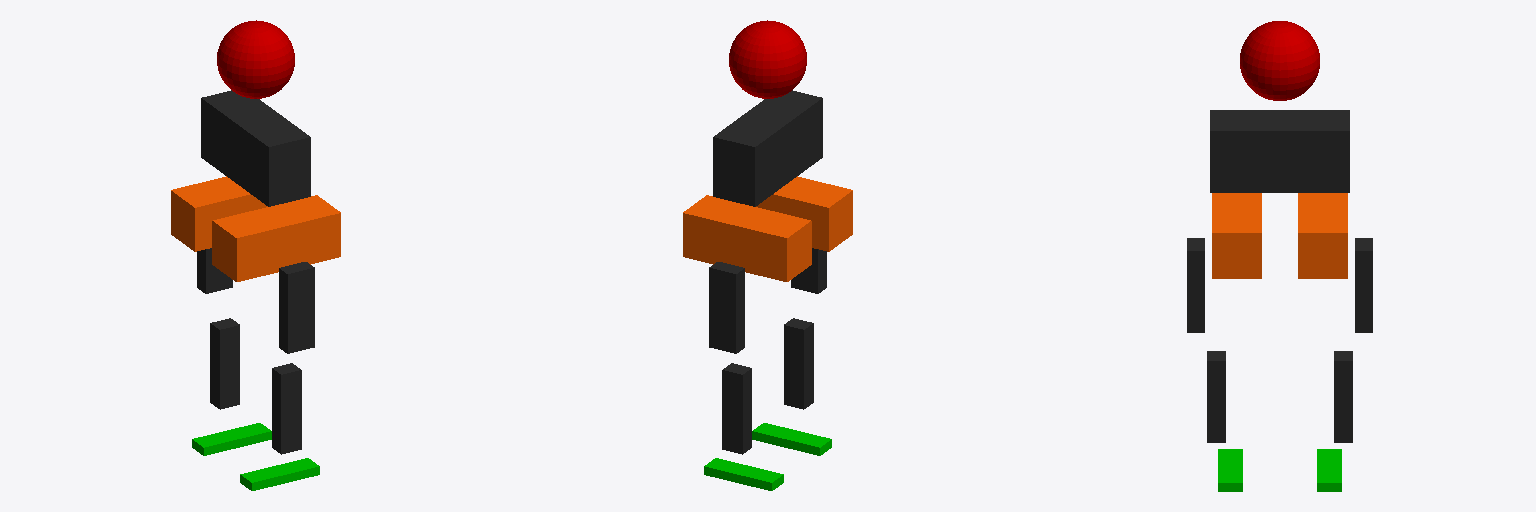
robot.urdf — clala:
<?xml version="1.0" ?>
<!-- =================================================================================== -->
<!-- |    This document was autogenerated by xacro from wwlambda_r2.xacro              | -->
<!-- |    EDITING THIS FILE BY HAND IS NOT RECOMMENDED                                 | -->
<!-- =================================================================================== -->
<robot name="clala" xmlns:xacro="http://ros.org/wiki/xacro">
  <material name="black">
    <color rgba="0.0 0.0 0.0 1.0"/>
  </material>
  <material name="blue">
    <color rgba="0.0 0.0 0.8 1.0"/>
  </material>
  <material name="green">
    <color rgba="0.0 0.8 0.0 1.0"/>
  </material>
  <material name="grey">
    <color rgba="0.2 0.2 0.2 1.0"/>
  </material>
  <material name="silver">
    <color rgba="0.9137254901960784 0.9137254901960784 0.8470588235294118 1.0"/>
  </material>
  <material name="orange">
    <color rgba="1.0 0.4235294117647059 0.0392156862745098 1.0"/>
  </material>
  <material name="brown">
    <color rgba="0.8705882352941177 0.8117647058823529 0.7647058823529411 1.0"/>
  </material>
  <material name="red">
    <color rgba="0.8 0.0 0.0 1.0"/>
  </material>
  <material name="white">
    <color rgba="1.0 1.0 1.0 1.0"/>
  </material>
  <link name="base">
    <visual>
      <origin rpy="0 0 0" xyz="0 0 0"/>
      <geometry>
        <box size="0.001 0.001 0.001"/>
      </geometry>
    </visual>
    <inertial>
      <origin rpy="0 0 0" xyz="0 0 0"/>
      <mass value="0.1"/>
      <inertia ixx=".00001" ixy="0." ixz=".015" iyy=".00001" iyz=".0" izz=".00001"/>
    </inertial>
  </link>
  <joint name="floating_base" type="fixed">
    <!-- <origin rpy="0 0 0" xyz="0 0 -0.042"/> -->
    <origin rpy="0 0 0" xyz="0 0 0.085"/>
    <parent link="trunk"/>
    <child link="base"/>
  </joint>
  <link name="trunk">
    <visual>
      <origin rpy="0 0 0" xyz="0 0 0.107"/>
      <geometry>
        <box size="0.062 0.172 0.084"/>
      </geometry>
      <material name="grey"/>
    </visual>
    <collision>
      <origin rpy="0 0 0" xyz="0 0 0.107"/>
      <geometry>
        <box size="0.062 0.172 0.084"/>
      </geometry>
    </collision>
    <inertial>
      <origin rpy="0 0 0" xyz="0.001131 0 0.086906"/>
      <mass value="0.672"/>
      <inertia ixx="2193585.402e-9" ixy="-31.775e-9" ixz="-12830.536e-9" iyy="412257.108e-9" iyz="-30.175e-9" izz="2159649.914e-9"/>
    </inertial>
  </link>
  <joint name="body_joint" type="fixed">
    <parent link="trunk"/>
    <child link="body"/>
    <origin rpy="0 0 0" xyz="0 0 0.230"/>
  </joint>
  <link name="body">
    <inertial>
      <mass value="1.3"/>
      <origin rpy="0 0 0" xyz="0 0 0"/>
      <inertia ixx="3035947e-9" ixy="-1669e-9" ixz="2793e-9" iyy="2992228e-9" iyz="17720e-9" izz="3906372e-9"/>
    </inertial>
    <visual>
      <origin rpy="0 0 0" xyz="0 0 0"/>
      <geometry>
        <sphere radius="0.050" />
        <!-- <box size="0.100 0.100 0.100"/> -->
      </geometry>
      <material name="red"/>
    </visual>
    <collision>
      <origin rpy="0 0 0" xyz="0 0 0"/>
      <geometry>
        <sphere radius="0.050" />
        <!-- <box size="0.120 0.120 0.120"/> -->
      </geometry>
    </collision>
  </link>
  <joint name="imu_joint" type="fixed">
    <parent link="trunk"/>
    <child link="imu_link"/>
    <origin rpy="0 0 0" xyz="0 0 0"/>
  </joint>
  <link name="imu_link">
    <inertial>
      <mass value="0.001"/>
      <origin rpy="0 0 0" xyz="0 0 0"/>
      <inertia ixx="0.0001" ixy="0" ixz="0" iyy="0.000001" iyz="0" izz="0.0001"/>
    </inertial>
    <visual>
      <origin rpy="0 0 0" xyz="0 0 0"/>
      <geometry>
        <box size="0.001 0.001 0.001"/>
      </geometry>
      <material name="red"/>
    </visual>
    <collision>
      <origin rpy="0 0 0" xyz="0 0 0"/>
      <geometry>
        <box size=".001 .001 .001"/>
      </geometry>
    </collision>
  </link>
  <joint name="L_hip_joint" type="revolute">
    <origin rpy="0 0 0" xyz="0.0 0.053 0"/>
    <parent link="trunk"/>
    <child link="L_hip"/>
    <axis xyz="0 0 1"/>
    <dynamics damping="0.1" friction="0.0"/>
    <limit effort="10.0" lower="-0.2" upper="0.2" velocity="20"/>
  </joint>
  <link name="L_hip">
    <visual>
      <origin rpy="0 0 0" xyz="0 0 0"/>
      <geometry>
        <box size="0.154 0.062 0.062"/>
      </geometry>
      <material name="orange"/>
    </visual>
    <collision>
      <origin rpy="0 0 0" xyz="0 0 0"/>
      <geometry>
        <box size="0.154 0.062 0.062"/>
      </geometry>
    </collision>
    <inertial>
      <origin rpy="0 0 0" xyz="0 0.000334 0.003935"/>
      <mass value="0.652898"/>
      <inertia ixx="534478.410e-9" ixy="192.291e-9" ixz="-1.325e-9" iyy="2262361.698e-9" iyz="5777.021e-9" izz="2094559.879e-9"/>
    </inertial>
  </link>
  <joint name="L_hip2_joint" type="revolute">
    <origin rpy="0 0 0" xyz="0 0 0"/>
    <parent link="L_hip"/>
    <child link="L_hip2"/>
    <axis xyz="1 0 0"/>
    <dynamics damping="0.1" friction="0.0"/>
    <limit effort="10.0" lower="-0.2" upper="0.2" velocity="20"/>
  </joint>
  <link name="L_hip2">
    <!-- <visual>
      <origin rpy="0 0 0" xyz="0 0 0"/>
      <geometry>
        <mesh filename="../meshes/ww_lambda_right_hip_joint_r2.stl" scale="1 -1 1 "/>
      </geometry>
      <material name="brown"/>
    </visual> -->
    <inertial>
      <origin rpy="0 0 0" xyz="0.0 0.0111622 -0.000255"/>
      <mass value="0.404998"/>
      <inertia ixx="289373.105e-9" ixy="43.945e-9" ixz="-31.242e-9" iyy="243507.837e-9" iyz="-1291.490e-9" izz="298143.715e-9"/>
    </inertial>
  </link>
  <joint name="L_thigh_joint" type="revolute">
    <origin rpy="0 0.0 0" xyz="0 0.040 0"/>
    <parent link="L_hip2"/>
    <child link="L_thigh"/>
    <axis xyz="0 1 0"/>
    <joint_properties damping="0.1" friction="0.0"/>
    <limit effort="10.0" lower="-1.57" upper="0.3" velocity="20"/>
  </joint>
  <link name="L_thigh">
    <visual>
      <origin rpy="0 0 0" xyz="0 0.011 -0.0762"/>
      <geometry>
        <box size="0.040 0.022 0.112"/>
      </geometry>
      <material name="grey"/>
    </visual>
    <collision>
      <origin rpy="0 0 0" xyz="0 0.011 -0.0762"/>
      <geometry>
        <box size="0.040 0.022 0.112"/>
      </geometry>
    </collision>
    <inertial>
      <origin rpy="0 0 0" xyz="0.00044 -0.016322 -0.134420"/>
      <mass value="0.366608"/>
      <inertia ixx="786472.731e-9" ixy="57.238e-9" ixz="333.551e-9" iyy="678521.016e-9" iyz="-166135.332e-9" izz="208660.299e-9"/>
    </inertial>
  </link>
  <joint name="L_calf_joint" type="revolute">
    <!-- <origin rpy="0 ${calf_angle} 0" xyz="0 -0.0038 -0.1524"/> -->
    <origin rpy="0 0.0 0" xyz="0 -0.0238 -0.1524"/>
    <parent link="L_thigh"/>
    <child link="L_calf"/>
    <axis xyz="0 1 0"/>
    <joint_properties damping="0.1" friction="0.0"/>
    <limit effort="10.0" lower="0.0" upper="2.5" velocity="20"/>
  </joint>
  <link name="L_calf">
    <visual>
      <origin rpy="0 0 0" xyz="0 0.009 -0.0762"/>
      <geometry>
        <box size="0.030 0.024 0.112"/>
      </geometry>
      <material name="grey"/>
    </visual>
    <collision>
      <origin rpy="0 0 0" xyz="0 0.009 -0.0762"/>
      <geometry>
        <box size="0.030 0.024 0.112"/>
      </geometry>
    </collision>
    <inertial>
      <origin rpy="0 0 0" xyz="0.0 -0.007683 -0.078768"/>
      <mass value="0.056674"/>
      <inertia ixx="165297.155e-9" ixy="-0.046e-9" ixz="-0.870e-9" iyy="162576.784e-9" iyz="222.311e-9" izz="8384.868e-9"/>
    </inertial>
  </link>
  <joint name="L_toe_joint" type="revolute">
    <origin rpy="0 0.0 0" xyz="0 -0.0079 -0.1524"/>
    <parent link="L_calf"/>
    <child link="L_toe"/>
    <axis xyz="0 1 0"/>
    <joint_properties damping="0.1" friction="0.0"/>
    <limit effort="4.0" lower="-1.57" upper="1.57" velocity="20"/>
  </joint>
  <link name="L_toe">
    <visual>
      <origin rpy="0 0 0" xyz="0 0 -0.023"/>
      <geometry>
        <box size="0.100 0.030 0.012"/>
      </geometry>
      <material name="green"/>
    </visual>
    <collision>
      <origin rpy="0 0 0" xyz="0 0 -0.023"/>
      <geometry>
        <box size="0.100 0.030 0.012"/>
      </geometry>
    </collision>
    <inertial>
      <origin rpy="0 0 0" xyz="0 0.001619 -0.016022"/>
      <mass value="0.049085"/>
      <!-- <inertia ixx="7532.090e-9" 
                     ixy="-0.005e-9" iyy="28428.656e-9" 
                     ixz="0.037e-9" iyz="-1279.852e-9" izz="25997.217e-9"/> -->
      <!-- バタつくのでHECTORの足データを持ってきた -->
      <!-- <mass value="${toe_mass}"/> -->
      <inertia ixx="5.7298e-05" ixy="0.0" ixz="0.0" iyy="0.000290752" iyz="0.0" izz="0.000249491"/>
    </inertial>
  </link>
  <joint name="R_hip_joint" type="revolute">
    <origin rpy="0 0 0" xyz="0.0 -0.053 0"/>
    <parent link="trunk"/>
    <child link="R_hip"/>
    <axis xyz="0 0 1"/>
    <dynamics damping="0.1" friction="0.0"/>
    <limit effort="10.0" lower="-0.2" upper="0.2" velocity="20"/>
  </joint>
  <link name="R_hip">
    <visual>
      <origin rpy="0 0 0" xyz="0 0 0"/>
      <geometry>
        <box size="0.154 0.062 0.062"/>
      </geometry>
      <material name="orange"/>
    </visual>
    <collision>
      <origin rpy="0 0 0" xyz="0 0 0"/>
      <geometry>
        <box size="0.154 0.062 0.062"/>
      </geometry>
    </collision>
    <inertial>
      <origin rpy="0 0 0" xyz="0 0.000334 0.003935"/>
      <mass value="0.652898"/>
      <inertia ixx="534478.410e-9" ixy="192.291e-9" ixz="-1.325e-9" iyy="2262361.698e-9" iyz="5777.021e-9" izz="2094559.879e-9"/>
    </inertial>
  </link>
  <joint name="R_hip2_joint" type="revolute">
    <origin rpy="0 0 0" xyz="0 0 0"/>
    <parent link="R_hip"/>
    <child link="R_hip2"/>
    <axis xyz="1 0 0"/>
    <dynamics damping="0.1" friction="0.0"/>
    <limit effort="10.0" lower="-0.2" upper="0.2" velocity="20"/>
  </joint>
  <link name="R_hip2">
    <!-- <visual>
      <origin rpy="0 0 0" xyz="0 0 0"/>
      <geometry>
        <mesh filename="../meshes/ww_lambda_right_hip_joint_r2.stl" scale="1 1 1"/>
      </geometry>
      <material name="brown"/>
    </visual> -->
    <inertial>
      <origin rpy="0 0 0" xyz="0.0 -0.0111622 -0.000255"/>
      <mass value="0.404998"/>
      <inertia ixx="289373.105e-9" ixy="-43.945e-9" ixz="-31.242e-9" iyy="243507.837e-9" iyz="1291.490e-9" izz="298143.715e-9"/>
    </inertial>
  </link>
  <joint name="R_thigh_joint" type="revolute">
    <origin rpy="0 0.0 0" xyz="0 -0.040 0"/>
    <parent link="R_hip2"/>
    <child link="R_thigh"/>
    <axis xyz="0 1 0"/>
    <joint_properties damping="0.1" friction="0.0"/>
    <limit effort="10.0" lower="-1.57" upper="0.3" velocity="20"/>
  </joint>
  <link name="R_thigh">
    <visual>
      <origin rpy="0 0 0" xyz="0 -0.011 -0.0762"/>
      <geometry>
        <box size="0.040 0.022 0.112"/>
      </geometry>
      <material name="grey"/>
    </visual>
    <collision>
      <origin rpy="0 0 0" xyz="0 -0.011 -0.0762"/>
      <geometry>
        <box size="0.040 0.022 0.112"/>
      </geometry>
    </collision>
    <inertial>
      <origin rpy="0 0 0" xyz="0.00044 0.016322 -0.134420"/>
      <mass value="0.366608"/>
      <inertia ixx="786472.731e-9" ixy="-57.238e-9" ixz="333.551e-9" iyy="678521.016e-9" iyz="166135.332e-9" izz="208660.299e-9"/>
    </inertial>
  </link>
  <joint name="R_calf_joint" type="revolute">
    <!-- <origin rpy="0 ${calf_angle} 0" xyz="0 0.0038 -0.1524"/> -->
    <origin rpy="0 0.0 0" xyz="0 0.0238 -0.1524"/>
    <parent link="R_thigh"/>
    <child link="R_calf"/>
    <axis xyz="0 1 0"/>
    <joint_properties damping="0.1" friction="0.0"/>
    <limit effort="10.0" lower="0.0" upper="2.5" velocity="20"/>
  </joint>
  <link name="R_calf">
    <visual>
      <origin rpy="0 0 0" xyz="0 -0.009 -0.0762"/>
      <geometry>
        <box size="0.030 0.024 0.112"/>
      </geometry>
      <material name="grey"/>
    </visual>
    <collision>
      <origin rpy="0 0 0" xyz="0 -0.009 -0.0762"/>
      <geometry>
        <box size="0.030 0.024 0.112"/>
      </geometry>
    </collision>
    <inertial>
      <origin rpy="0 0 0" xyz="0.0 0.007683 -0.078768"/>
      <mass value="0.056674"/>
      <inertia ixx="165297.155e-9" ixy="0.046e-9" ixz="-0.870e-9" iyy="162576.784e-9" iyz="-222.311e-9" izz="8384.868e-9"/>
    </inertial>
  </link>
  <joint name="R_toe_joint" type="revolute">
    <origin rpy="0 0.0 0" xyz="0 0.0079 -0.1524"/>
    <parent link="R_calf"/>
    <child link="R_toe"/>
    <axis xyz="0 1 0"/>
    <joint_properties damping="0.1" friction="0.0"/>
    <limit effort="4.0" lower="-1.57" upper="1.57" velocity="20"/>
  </joint>
  <link name="R_toe">
    <visual>
      <origin rpy="0 0 0" xyz="0 0 -0.023"/>
      <geometry>
        <box size="0.100 0.030 0.012"/>
      </geometry>
      <material name="green"/>
    </visual>
    <collision>
      <origin rpy="0 0 0" xyz="0 0 -0.023"/>
      <geometry>
        <box size="0.100 0.030 0.012"/>
      </geometry>
    </collision>
    <inertial>
      <origin rpy="0 0 0" xyz="0 -0.001757 -0.01608"/>
      <mass value="0.052588"/>
      <!-- <inertia ixx="8207.198e-9" 
                     ixy="-0.005e-9" iyy="31374.088e-9" 
                     ixz="-0.037e-9" iyz="1491.969e-9" izz="28656.920e-9"/> -->
      <!-- バタつくのでHECTORの足データを持ってきた -->
      <!-- <mass value="${toe_mass}"/> -->
      <inertia ixx="5.7298e-05" ixy="0.0" ixz="0.0" iyy="0.000290752" iyz="0.0" izz="0.000249491"/>
    </inertial>
  </link>
  <!-- <link name="bumper_LF">
    <visual>
      <origin rpy="0 0 0" xyz="0 0 0"/>
      <geometry>
        <box size="0.03 0.03 0.002"/>
      </geometry>
      <material name="red"/>
    </visual>
    <collision name="bumper_LF_collision">
      <origin rpy="0 0 0" xyz="0 0 0"/>
      <geometry name="bumper_LF_collision">
        <box size="0.028999999999999998 0.028999999999999998 0.001"/>
      </geometry>
    </collision>
    <inertial>
      <origin rpy="0 0 0" xyz="0 0 0"/>
      <mass value="0.001"/>
      <inertia ixx="1e-9" ixy="0" ixz="0" iyy="1e-9" iyz="0" izz="1e-9"/>
    </inertial>
  </link>
  <joint name="LF_bumper" type="fixed">
    <parent link="L_toe"/>
    <child link="bumper_LF"/>
    <origin rpy="0 0 0" xyz="0.035 0 -0.030000000000000002"/>
  </joint>
  <gazebo reference="bumper_LF">
    <material>Gazebo/Red</material>
    <selfCollide>true</selfCollide>
    <sensor name="bumper_LF_sensor" type="contact">
      <contact>
        <collision>L_toe_fixed_joint_lump__bumper_LF_collision_collision_2</collision>
      </contact>
      <plugin filename="libgazebo_ros_bumper.so" name="gazebo_ros_bumper_controller">
        <alwaysOn>true</alwaysOn>
        <updateRate>10.0</updateRate>
        <bumperTopicName>bumper_LF</bumperTopicName>
        <frameName>world</frameName>
      </plugin>
    </sensor>
  </gazebo>
  <link name="bumper_LB">
    <visual>
      <origin rpy="0 0 0" xyz="0 0 0"/>
      <geometry>
        <box size="0.03 0.03 0.002"/>
      </geometry>
      <material name="red"/>
    </visual>
    <collision name="bumper_LB_collision">
      <origin rpy="0 0 0" xyz="0 0 0"/>
      <geometry name="bumper_LB_collision">
        <box size="0.028999999999999998 0.028999999999999998 0.001"/>
      </geometry>
    </collision>
    <inertial>
      <origin rpy="0 0 0" xyz="0 0 0"/>
      <mass value="0.001"/>
      <inertia ixx="1e-9" ixy="0" ixz="0" iyy="1e-9" iyz="0" izz="1e-9"/>
    </inertial>
  </link>
  <joint name="LB_bumper" type="fixed">
    <parent link="L_toe"/>
    <child link="bumper_LB"/>
    <origin rpy="0 0 0" xyz="-0.035 0 -0.030000000000000002"/>
  </joint>
  <gazebo reference="bumper_LB">
    <material>Gazebo/Red</material>
    <selfCollide>true</selfCollide>
    <sensor name="bumper_LB_sensor" type="contact">
      <contact>
        <collision>L_toe_fixed_joint_lump__bumper_LB_collision_collision_1</collision>
      </contact>
      <plugin filename="libgazebo_ros_bumper.so" name="gazebo_ros_bumper_controller">
        <alwaysOn>true</alwaysOn>
        <updateRate>10.0</updateRate>
        <bumperTopicName>bumper_LB</bumperTopicName>
        <frameName>world</frameName>
      </plugin>
    </sensor>
  </gazebo>
  <link name="bumper_RF">
    <visual>
      <origin rpy="0 0 0" xyz="0 0 0"/>
      <geometry>
        <box size="0.03 0.03 0.002"/>
      </geometry>
      <material name="red"/>
    </visual>
    <collision name="bumper_RF_collision">
      <origin rpy="0 0 0" xyz="0 0 0"/>
      <geometry name="bumper_RF_collision">
        <box size="0.028999999999999998 0.028999999999999998 0.001"/>
      </geometry>
    </collision>
    <inertial>
      <origin rpy="0 0 0" xyz="0 0 0"/>
      <mass value="0.001"/>
      <inertia ixx="1e-9" ixy="0" ixz="0" iyy="1e-9" iyz="0" izz="1e-9"/>
    </inertial>
  </link>
  <joint name="RF_bumper" type="fixed">
    <parent link="R_toe"/>
    <child link="bumper_RF"/>
    <origin rpy="0 0 0" xyz="0.035 0 -0.030000000000000002"/>
  </joint>
  <gazebo reference="bumper_RF">
    <material>Gazebo/Red</material>
    <selfCollide>true</selfCollide>
    <sensor name="bumper_RF_sensor" type="contact">
      <contact>
        <collision>R_toe_fixed_joint_lump__bumper_RF_collision_collision_2</collision>
      </contact>
      <plugin filename="libgazebo_ros_bumper.so" name="gazebo_ros_bumper_controller">
        <alwaysOn>true</alwaysOn>
        <updateRate>10.0</updateRate>
        <bumperTopicName>bumper_RF</bumperTopicName>
        <frameName>world</frameName>
      </plugin>
    </sensor>
  </gazebo>
  <link name="bumper_RB">
    <visual>
      <origin rpy="0 0 0" xyz="0 0 0"/>
      <geometry>
        <box size="0.03 0.03 0.002"/>
      </geometry>
      <material name="red"/>
    </visual>
    <collision name="bumper_RB_collision">
      <origin rpy="0 0 0" xyz="0 0 0"/>
      <geometry name="bumper_RB_collision">
        <box size="0.028999999999999998 0.028999999999999998 0.001"/>
      </geometry>
    </collision>
    <inertial>
      <origin rpy="0 0 0" xyz="0 0 0"/>
      <mass value="0.001"/>
      <inertia ixx="1e-9" ixy="0" ixz="0" iyy="1e-9" iyz="0" izz="1e-9"/>
    </inertial>
  </link>
  <joint name="RB_bumper" type="fixed">
    <parent link="R_toe"/>
    <child link="bumper_RB"/>
    <origin rpy="0 0 0" xyz="-0.035 0 -0.030000000000000002"/>
  </joint>
  <gazebo reference="bumper_RB">
    <material>Gazebo/Red</material>
    <selfCollide>true</selfCollide>
    <sensor name="bumper_RB_sensor" type="contact">
      <contact>
        <collision>R_toe_fixed_joint_lump__bumper_RB_collision_collision_1</collision>
      </contact>
      <plugin filename="libgazebo_ros_bumper.so" name="gazebo_ros_bumper_controller">
        <alwaysOn>true</alwaysOn>
        <updateRate>10.0</updateRate>
        <bumperTopicName>bumper_RB</bumperTopicName>
        <frameName>world</frameName>
      </plugin>
    </sensor>
  </gazebo> -->
</robot>

--- Render facts (derived) ---
3 views of the same robot in one strip: view 1: azimuth 30°, elevation 25°; view 2: azimuth 150°, elevation 25°; view 3: azimuth 270°, elevation 25° (orthographic).
Model clala with 14 links and 13 joints (10 revolute, 3 fixed), rooted at trunk, posed all joints at 0.
Visible links, largest first — view 1: trunk, R_hip, body, L_hip, R_thigh, L_calf, R_calf, L_toe, R_toe, L_thigh; view 2: trunk, L_hip, body, R_hip, L_thigh, R_calf, L_calf, L_toe, R_toe, R_thigh; view 3: trunk, body, L_hip, R_hip, L_calf, R_calf, L_thigh, R_thigh, L_toe, R_toe.
Boxes of the visible links, x1=… form: trunk: x1=201, y1=90, x2=310, y2=206; R_hip: x1=212, y1=195, x2=340, y2=281; body: x1=217, y1=20, x2=294, y2=98; L_hip: x1=171, y1=176, x2=267, y2=251; R_thigh: x1=279, y1=262, x2=314, y2=353; L_calf: x1=210, y1=318, x2=239, y2=409; R_calf: x1=272, y1=363, x2=301, y2=454; L_toe: x1=192, y1=423, x2=271, y2=455; R_toe: x1=240, y1=458, x2=319, y2=490; L_thigh: x1=197, y1=248, x2=232, y2=293; trunk: x1=713, y1=90, x2=822, y2=206; L_hip: x1=683, y1=195, x2=811, y2=281; body: x1=729, y1=20, x2=806, y2=98; R_hip: x1=756, y1=176, x2=852, y2=251; L_thigh: x1=709, y1=262, x2=744, y2=353; R_calf: x1=784, y1=318, x2=813, y2=409; L_calf: x1=722, y1=363, x2=751, y2=454; L_toe: x1=704, y1=458, x2=783, y2=490; R_toe: x1=752, y1=423, x2=831, y2=455; R_thigh: x1=791, y1=248, x2=826, y2=293; trunk: x1=1210, y1=110, x2=1349, y2=192; body: x1=1240, y1=21, x2=1319, y2=100; L_hip: x1=1298, y1=193, x2=1347, y2=278; R_hip: x1=1212, y1=193, x2=1261, y2=278; L_calf: x1=1334, y1=351, x2=1352, y2=442; R_calf: x1=1207, y1=351, x2=1225, y2=442; L_thigh: x1=1355, y1=238, x2=1372, y2=332; R_thigh: x1=1187, y1=238, x2=1204, y2=332; L_toe: x1=1317, y1=449, x2=1341, y2=491; R_toe: x1=1218, y1=449, x2=1242, y2=491.
Size in the robot's own frame: 0.154 by 0.23 by 0.6138 metres.
Geometry: primitives only (box / cylinder / sphere), no mesh files.
